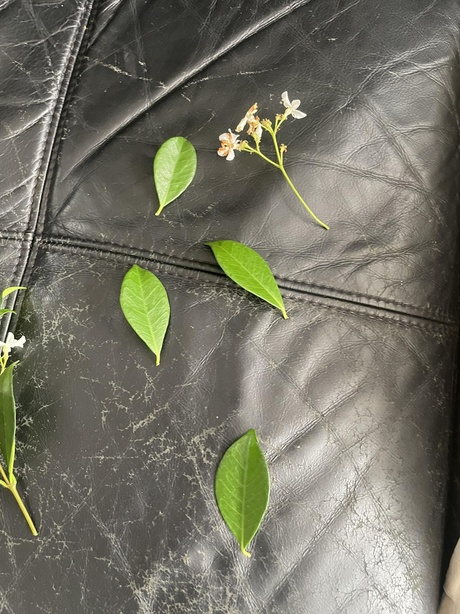leaf: (209, 421, 274, 556), (199, 232, 284, 313), (116, 255, 173, 367), (149, 128, 201, 216)
